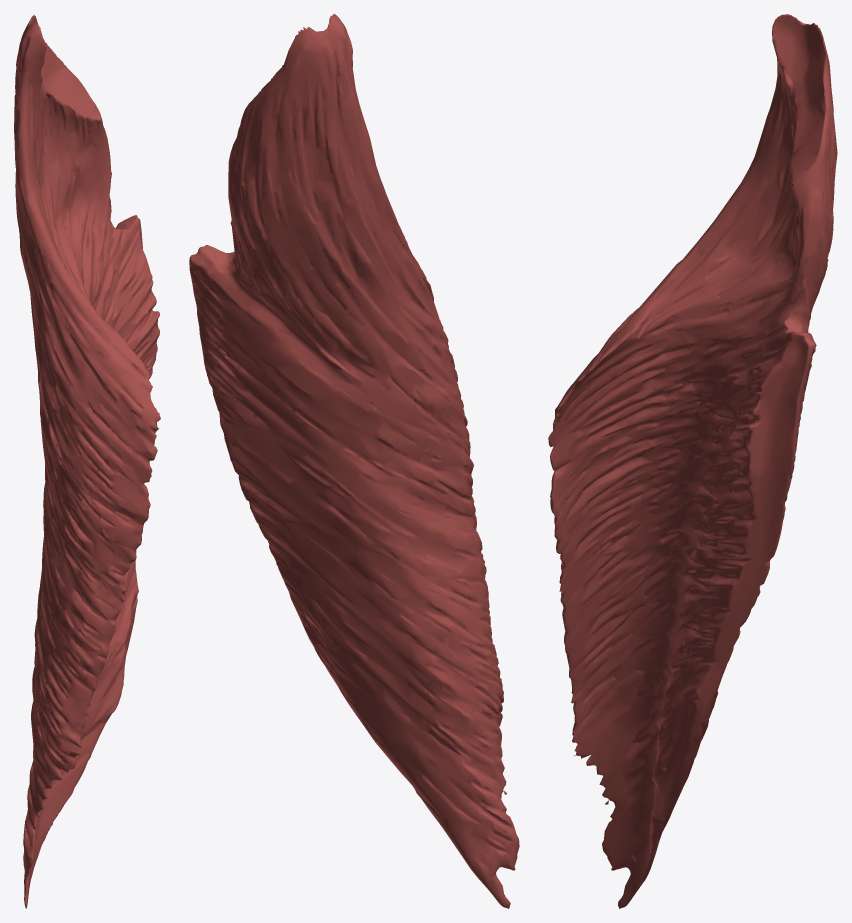
Rendered from FMA38513.glb.
The picture shows the model from 3 angles, left to right: view 1: azimuth 30°, elevation 25°; view 2: azimuth 150°, elevation 25°; view 3: azimuth 270°, elevation 25°; orthographic projection. The views are drawn at different scales.
Visible parts, largest first — view 1: FMA38513; view 2: FMA38513; view 3: FMA38513.
Boxes of the visible parts, x1=… form: FMA38513: x1=14, y1=14, x2=160, y2=908; FMA38513: x1=189, y1=14, x2=519, y2=908; FMA38513: x1=548, y1=14, x2=837, y2=908.
Size of the model in its own units: 0.032 by 0.1239 by 0.0345.
